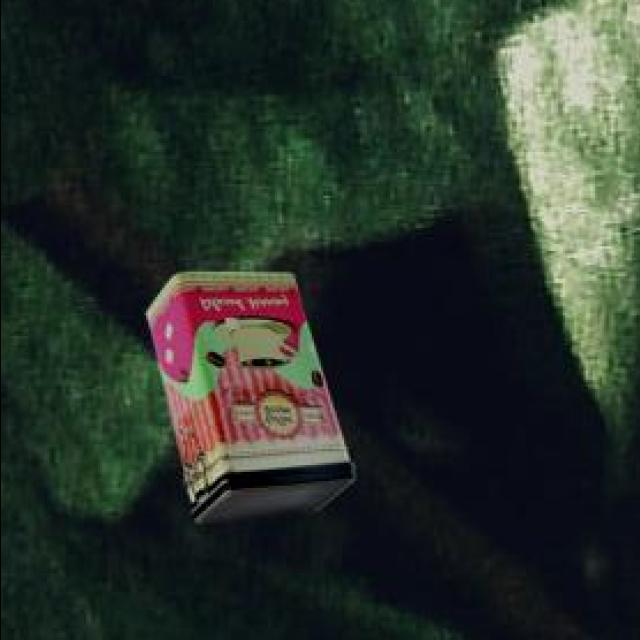logam: (148, 275, 358, 526)
